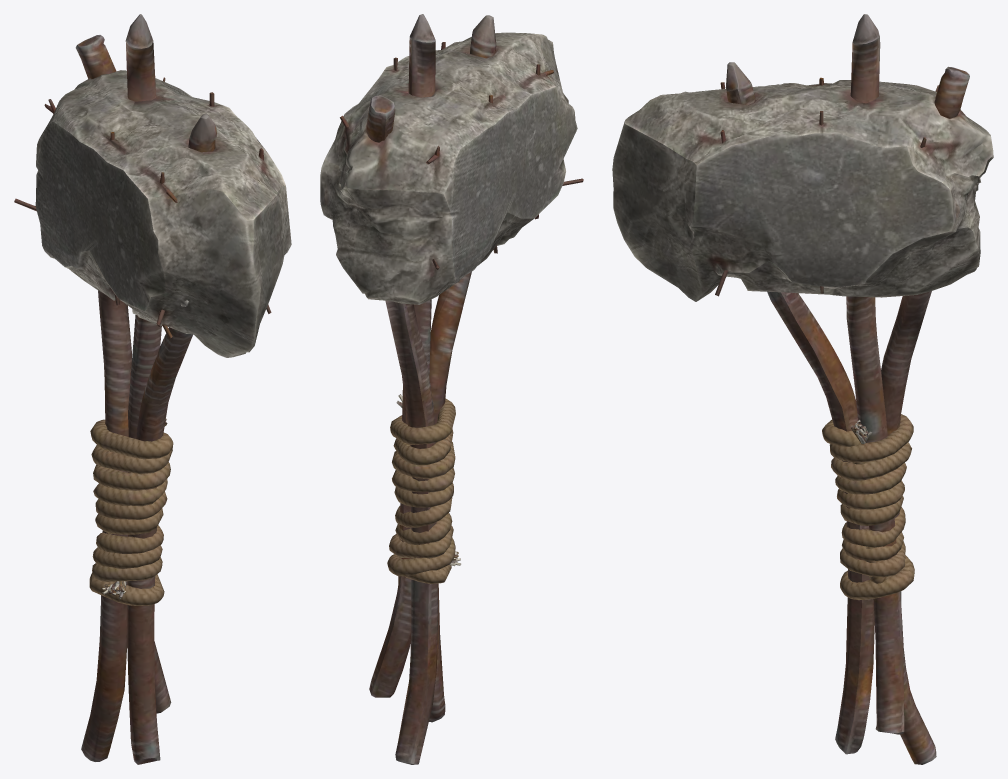
The model's file is concrete_hatchet.projectile.glb.
The picture shows the model from 3 angles, left to right: view 1: azimuth 30°, elevation 25°; view 2: azimuth 150°, elevation 25°; view 3: azimuth 270°, elevation 25°; orthographic projection. The views are drawn at different scales.
Parts seen in each view (by area): view 1: ConcreteHatchet_LOD0; view 2: ConcreteHatchet_LOD0; view 3: ConcreteHatchet_LOD0.
Part boxes in pixels (bbox=[...]): ConcreteHatchet_LOD0: bbox=[14, 14, 291, 764]; ConcreteHatchet_LOD0: bbox=[320, 14, 583, 764]; ConcreteHatchet_LOD0: bbox=[612, 14, 993, 764].
Size of the model in its own units: 0.077 by 0.3912 by 0.1788.
Materials: 1 (1 with a texture image).
